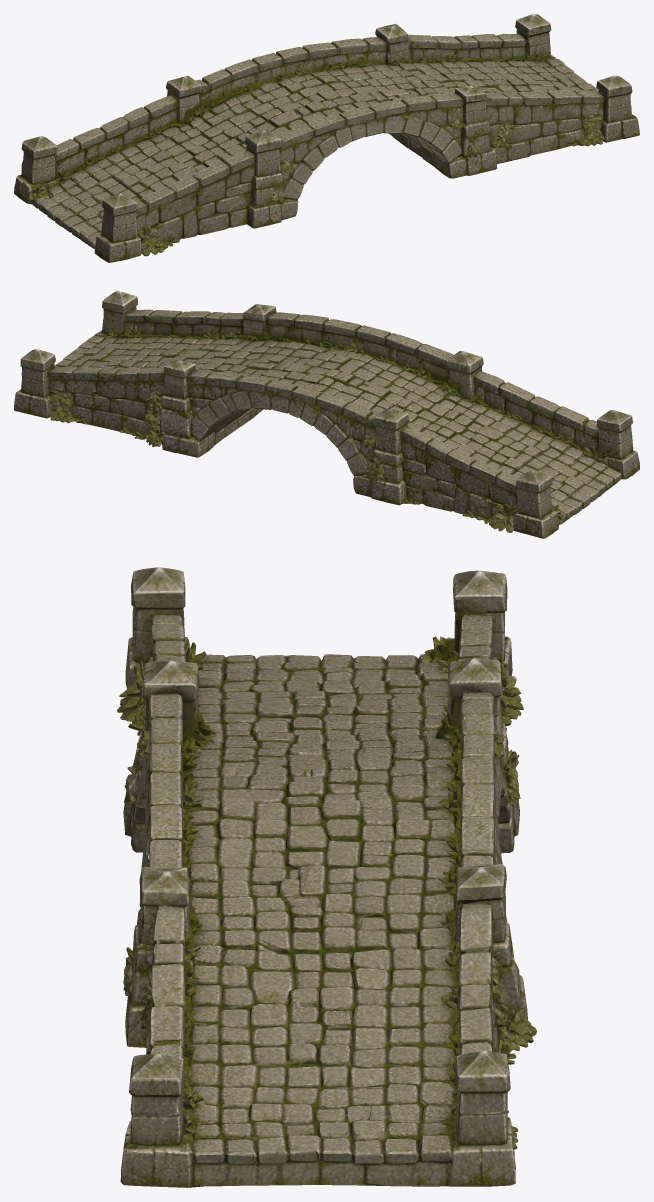
File: bridge.glb
3 renders of one model, top to bottom at view 1: azimuth 30°, elevation 25°; view 2: azimuth 150°, elevation 25°; view 3: azimuth 270°, elevation 25°, orthographic. The views are drawn at different scales.
Bounding box in the file's own units: 1.9 × 0.2906 × 0.6474.
1 material, 1 textured.
